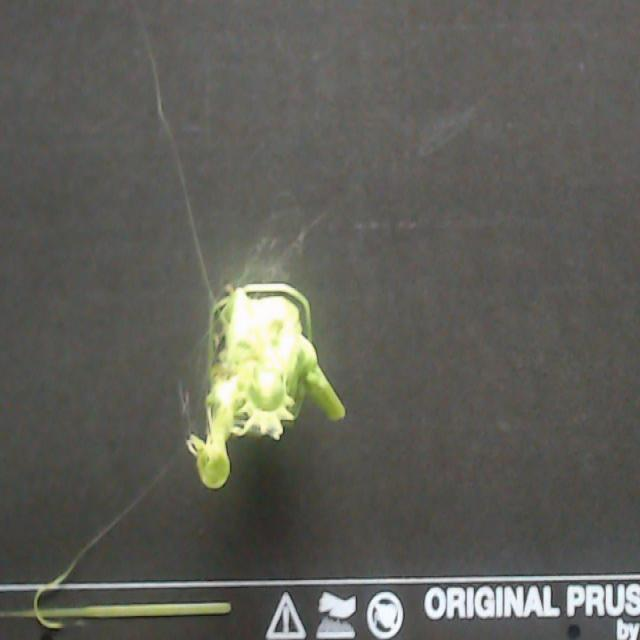mistake: (33, 460, 171, 629), (144, 40, 215, 313), (201, 451, 228, 485), (291, 291, 309, 317), (180, 389, 189, 429), (188, 435, 206, 454), (220, 284, 233, 297), (234, 419, 246, 433), (257, 283, 279, 288), (306, 318, 311, 337)
